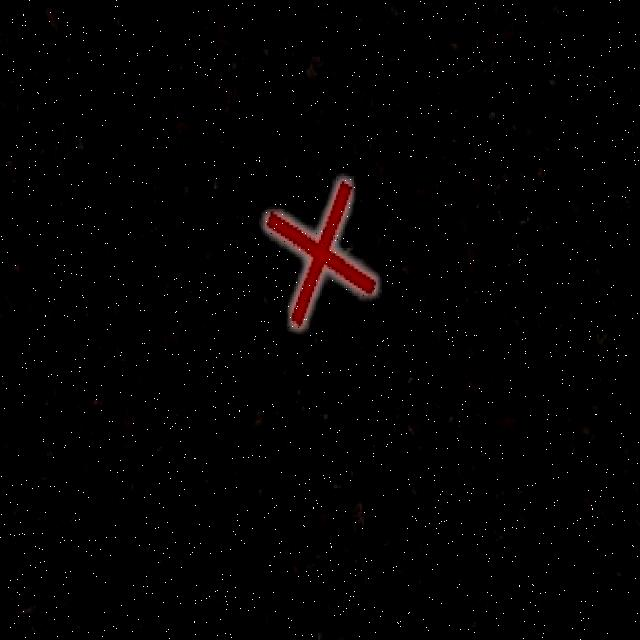x_marker: (265, 179, 375, 325)
